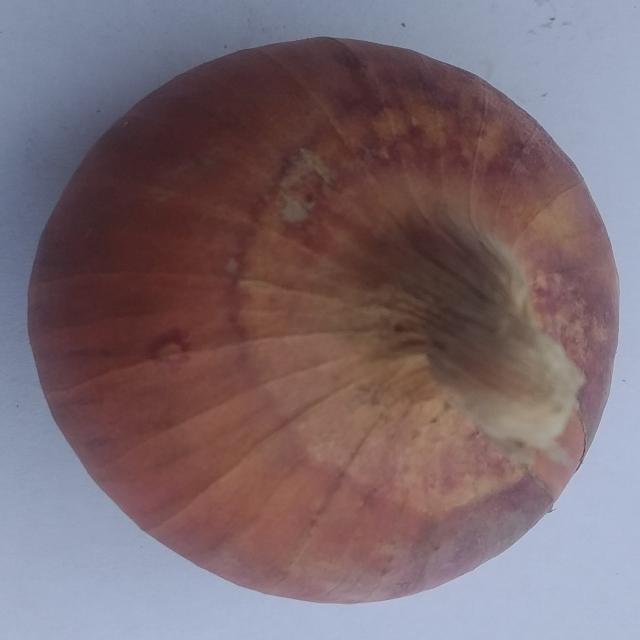onion: (24, 32, 622, 607)
